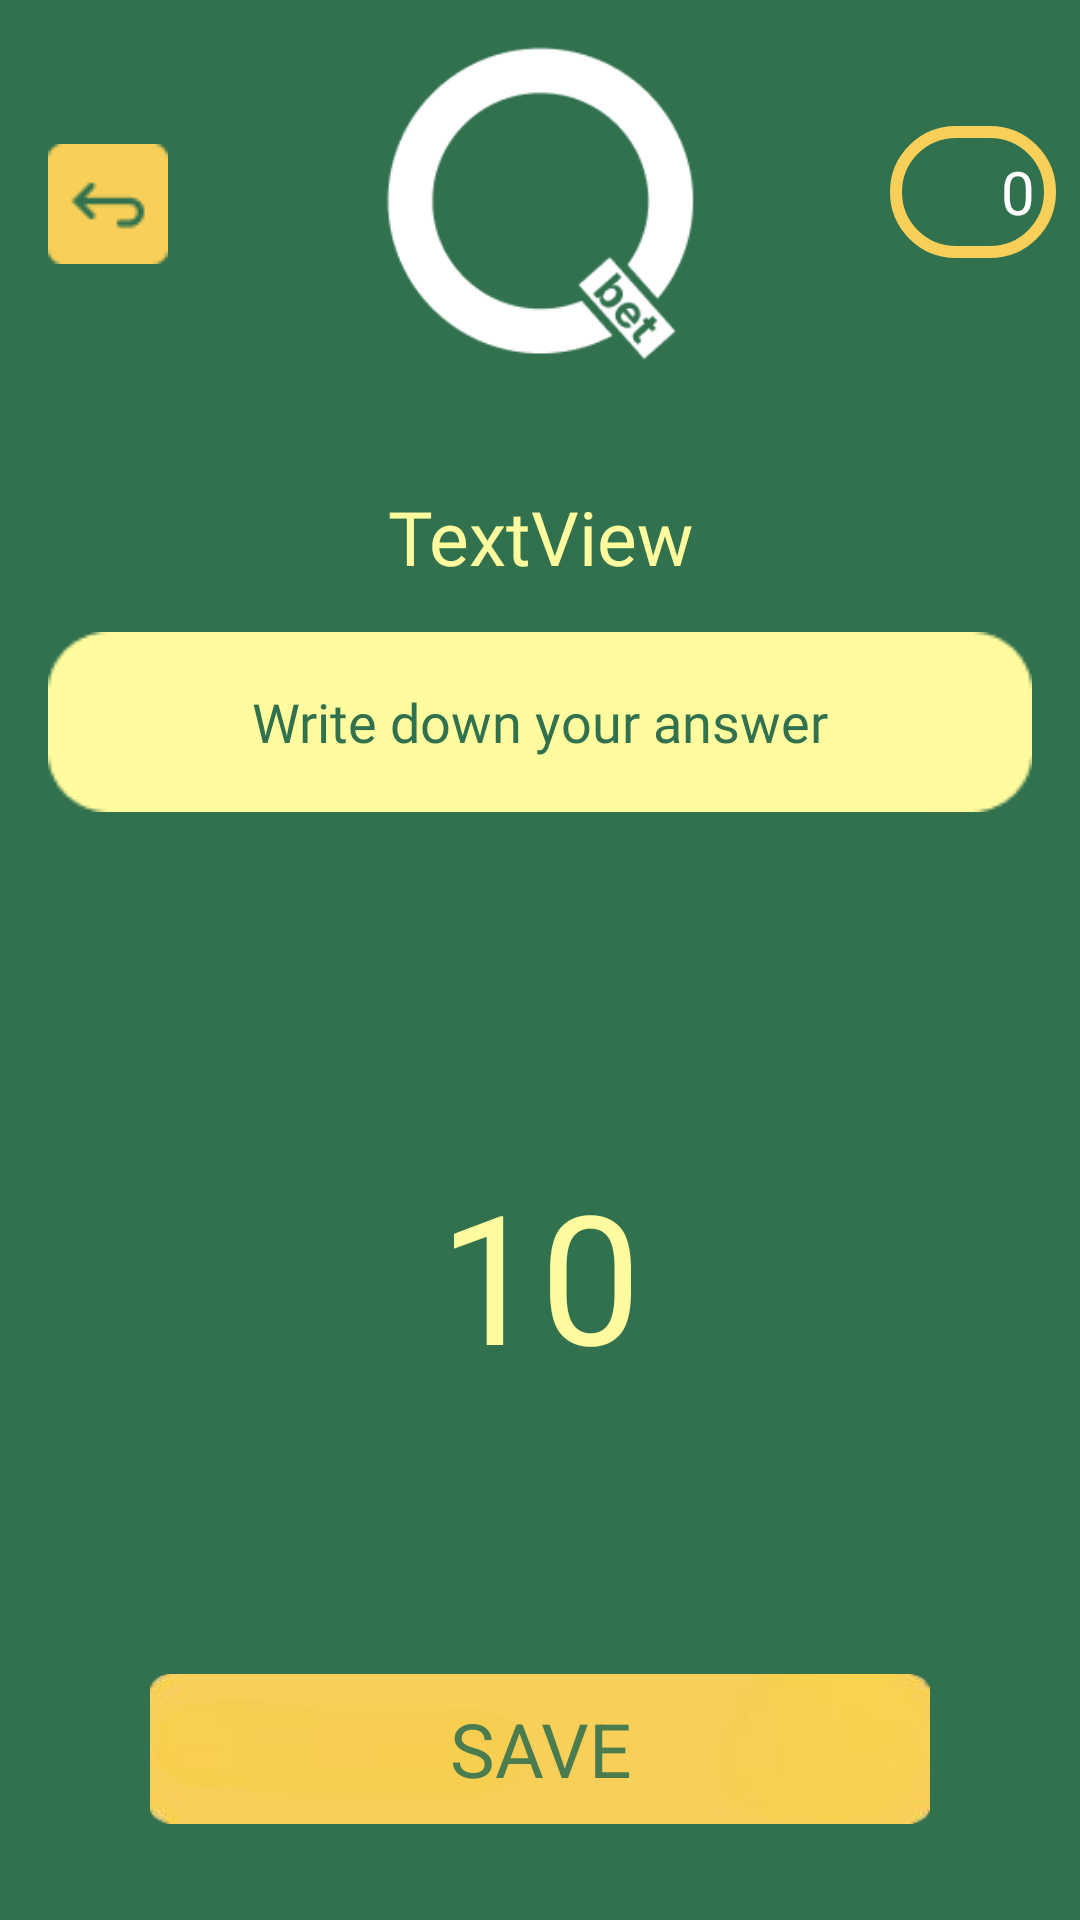

Screen size 1080px x 1920px. Icon name, then its center in pixels as (x=x, y=y):
anim click for back: (x=108, y=204)
